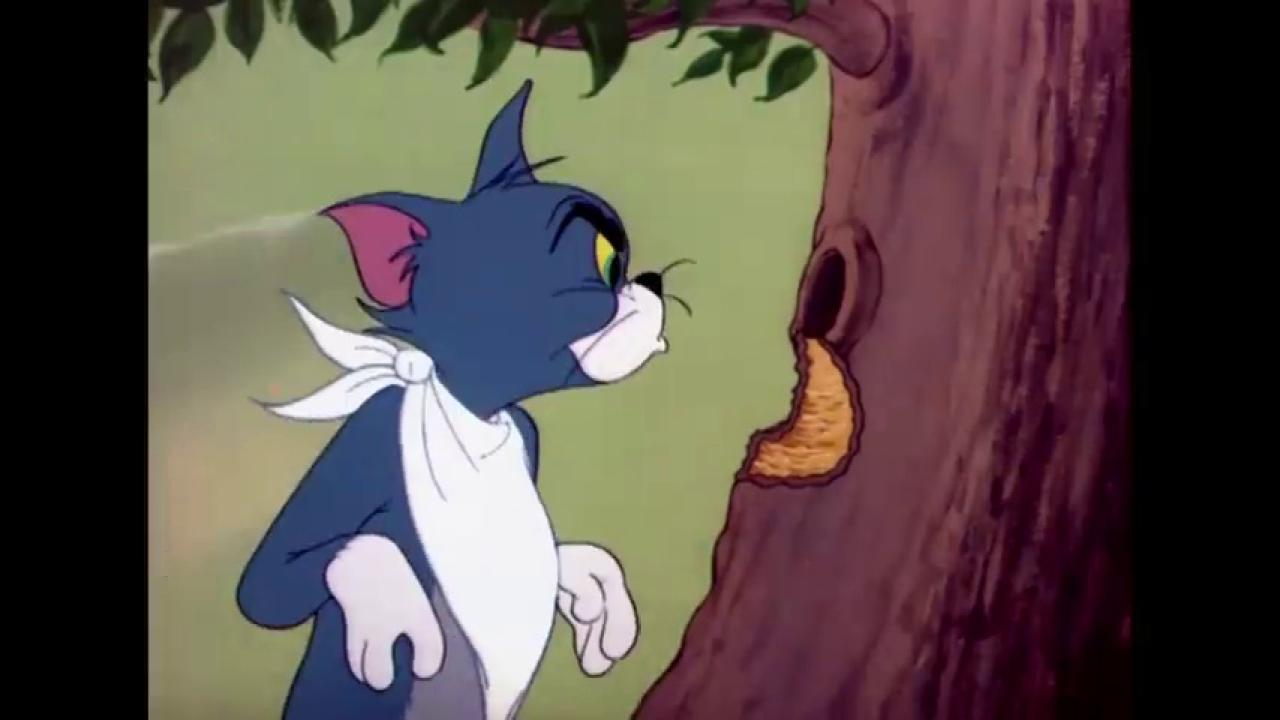Tom: (236, 75, 670, 720)
